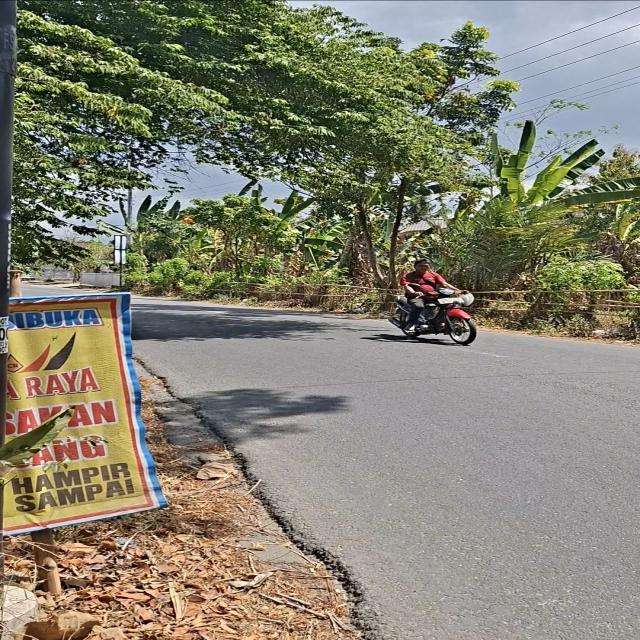WithoutHelmet: (400, 259, 471, 334)
